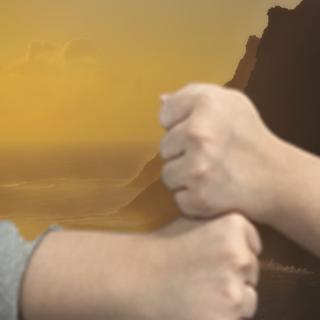CAREFUL: (74, 82, 314, 316)
